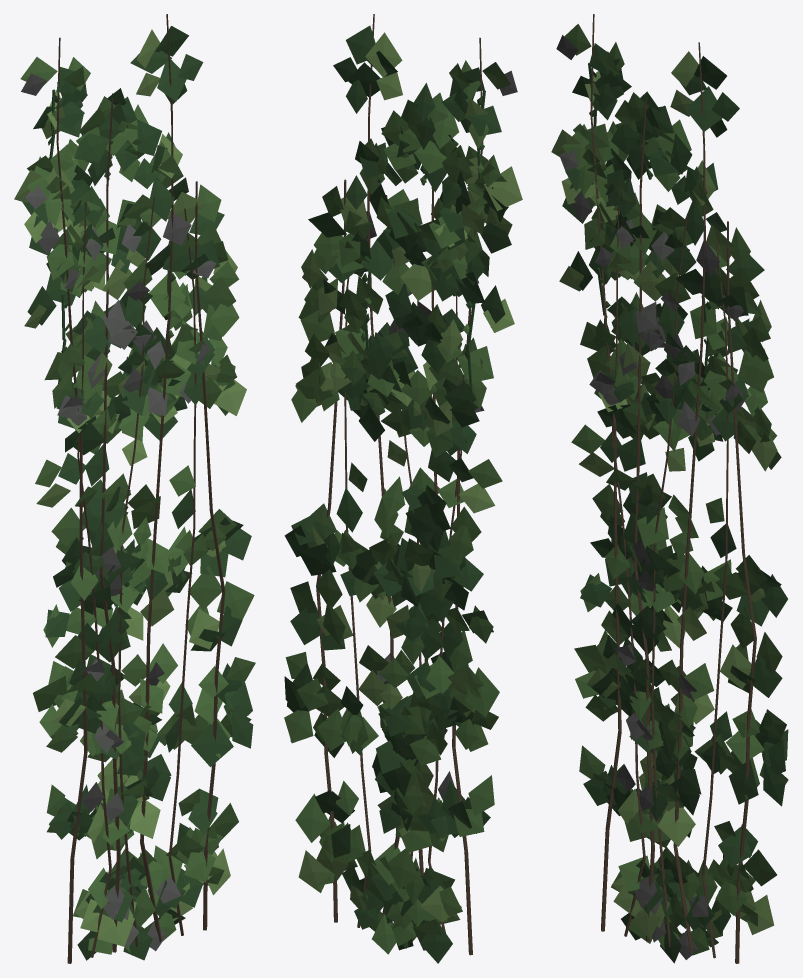
File: vine_wall_l.glb
3 renders of one model, left to right at view 1: azimuth 30°, elevation 25°; view 2: azimuth 150°, elevation 25°; view 3: azimuth 330°, elevation 25°, orthographic.
Parts seen in each view (by area): view 1: vine_wall_l; view 2: vine_wall_l; view 3: vine_wall_l.
Part boxes in pixels (x1,y1,x2,y2): vine_wall_l: (14,14,255,963); vine_wall_l: (284,14,522,963); vine_wall_l: (551,14,788,963).
Size of the model in its own units: 3.7 by 13.82 by 0.4226.
1 material, 1 textured.
